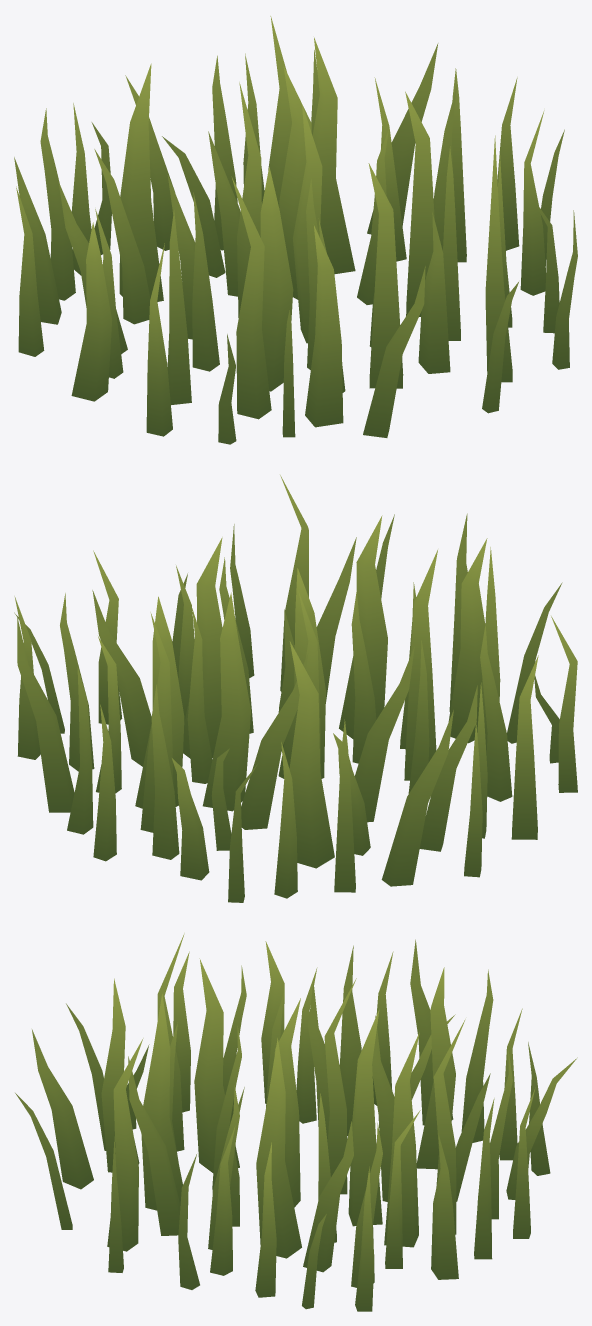
Rendered from Grass_01.fbx.
3 renders of one model, top to bottom at view 1: azimuth 30°, elevation 25°; view 2: azimuth 150°, elevation 25°; view 3: azimuth 270°, elevation 25°, orthographic. The views are drawn at different scales.
Visible parts, largest first — view 1: Grass_01_LOD0; view 2: Grass_01_LOD0; view 3: Grass_01_LOD0.
Boxes of the visible parts, bbox=[...] form: Grass_01_LOD0: bbox=[14, 16, 577, 444]; Grass_01_LOD0: bbox=[14, 475, 577, 902]; Grass_01_LOD0: bbox=[15, 933, 577, 1311].
Size of what is drawn, in the model's own units: 0.9646 by 0.4232 by 1.01.
